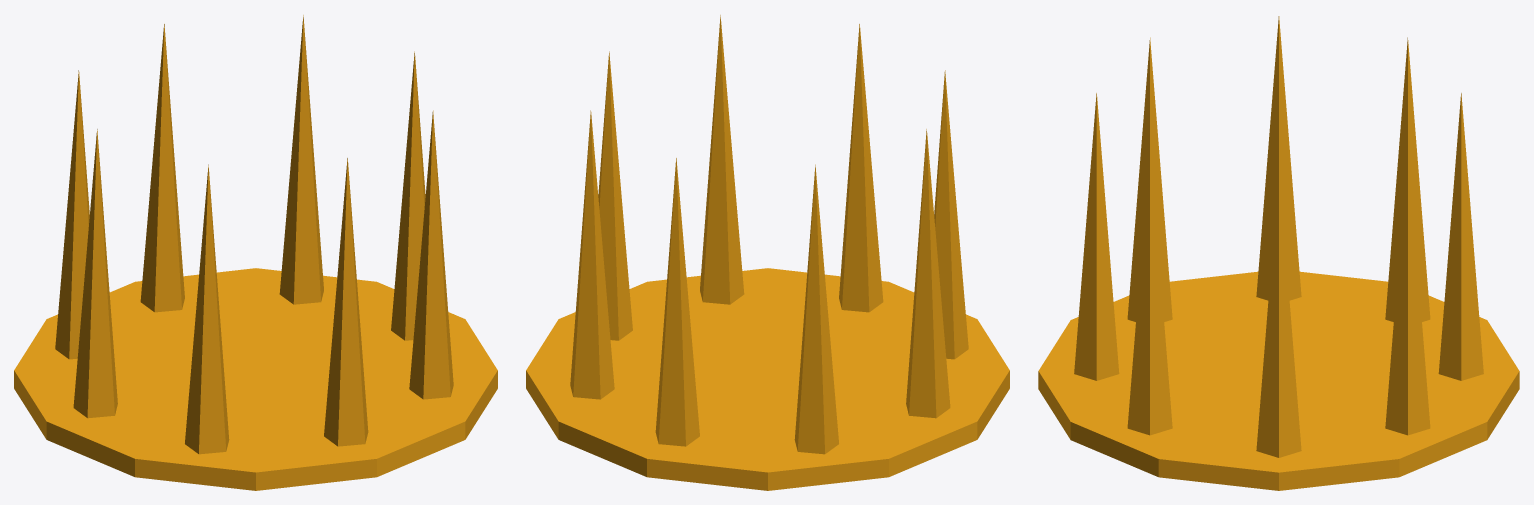
File: level_up.obj
3 views of the same model, side by side, from view 1: azimuth 30°, elevation 25°; view 2: azimuth 150°, elevation 25°; view 3: azimuth 270°, elevation 25° (orthographic).
Visible parts, largest first — view 1: models/vfx/level_up.obj; view 2: models/vfx/level_up.obj; view 3: models/vfx/level_up.obj.
Boxes of the visible parts, bbox=[...] form: models/vfx/level_up.obj: bbox=[14, 15, 497, 490]; models/vfx/level_up.obj: bbox=[526, 15, 1009, 490]; models/vfx/level_up.obj: bbox=[1038, 16, 1519, 490].
Bounding box in the file's own units: 1.9 × 1.3 × 1.9.
